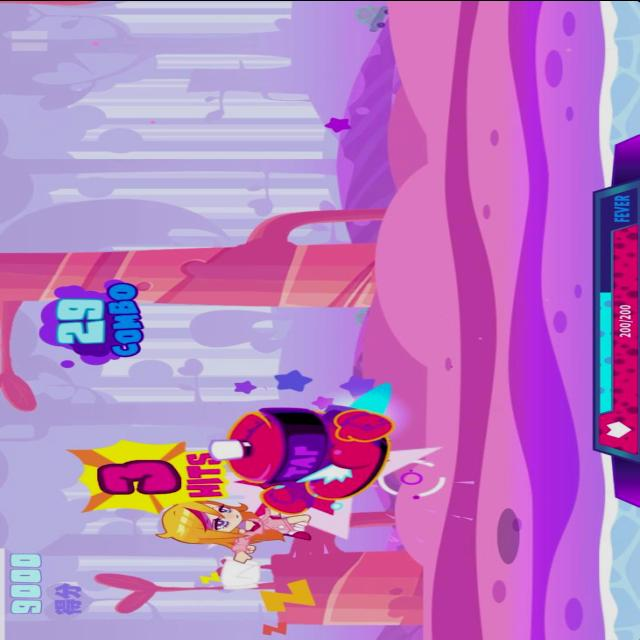tapboss: (206, 396, 404, 512)
